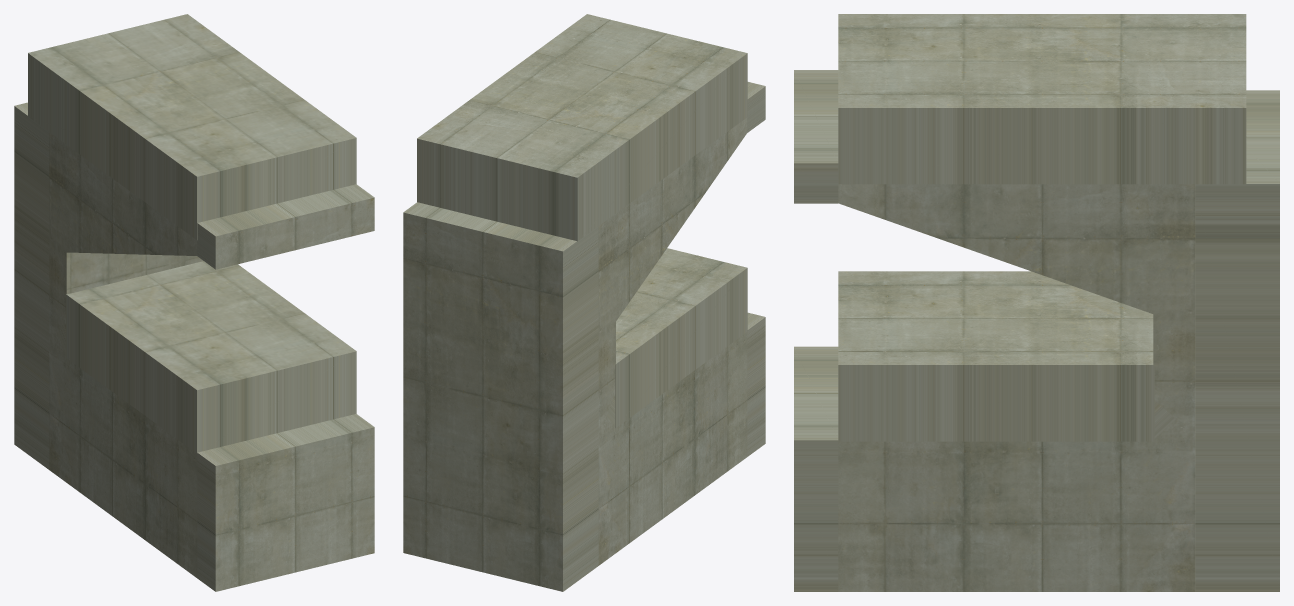
File: SM_LDFest_26_MovingPlatform2.fbx
3 views of the same model, side by side, from view 1: azimuth 30°, elevation 25°; view 2: azimuth 150°, elevation 25°; view 3: azimuth 270°, elevation 25° (orthographic). The views are drawn at different scales.
Visible parts, largest first — view 1: SM_LDFest_26_00.002, SM_LDFest_26_00.003, SM_LDFest_26_MovingPlatform2, SM_LDFest_26_00.005, SM_LDFest_26_00.006, SM_LDFest_26_00.004; view 2: SM_LDFest_26_00.006, SM_LDFest_26_00.002, SM_LDFest_26_MovingPlatform2, SM_LDFest_26_00.003, SM_LDFest_26_00.005, SM_LDFest_26_00.004; view 3: SM_LDFest_26_MovingPlatform2, SM_LDFest_26_00.002, SM_LDFest_26_00.003, SM_LDFest_26_00.006, SM_LDFest_26_00.005, SM_LDFest_26_00.004.
Boxes of the visible parts, bbox=[...] form: SM_LDFest_26_00.002: bbox=[28, 14, 356, 239]; SM_LDFest_26_00.003: bbox=[66, 261, 356, 453]; SM_LDFest_26_MovingPlatform2: bbox=[49, 132, 339, 577]; SM_LDFest_26_00.005: bbox=[197, 414, 374, 591]; SM_LDFest_26_00.006: bbox=[14, 102, 49, 469]; SM_LDFest_26_00.004: bbox=[197, 184, 374, 269]; SM_LDFest_26_00.006: bbox=[403, 202, 598, 591]; SM_LDFest_26_00.002: bbox=[417, 14, 747, 241]; SM_LDFest_26_MovingPlatform2: bbox=[598, 117, 747, 565]; SM_LDFest_26_00.003: bbox=[615, 248, 747, 428]; SM_LDFest_26_00.005: bbox=[747, 312, 765, 456]; SM_LDFest_26_00.004: bbox=[747, 82, 765, 132]; SM_LDFest_26_MovingPlatform2: bbox=[838, 184, 1195, 591]; SM_LDFest_26_00.002: bbox=[838, 14, 1246, 184]; SM_LDFest_26_00.003: bbox=[838, 271, 1154, 441]; SM_LDFest_26_00.006: bbox=[1195, 90, 1279, 591]; SM_LDFest_26_00.005: bbox=[794, 346, 838, 591]; SM_LDFest_26_00.004: bbox=[794, 70, 838, 203].
Bounding box in the file's own units: 414 × 994 × 904.
